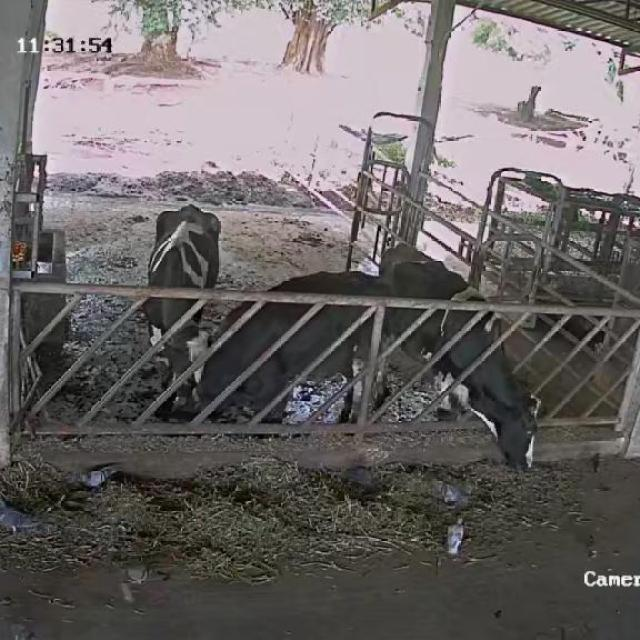feeding: (387, 238, 542, 472)
standing: (202, 270, 402, 429), (143, 202, 219, 412)
